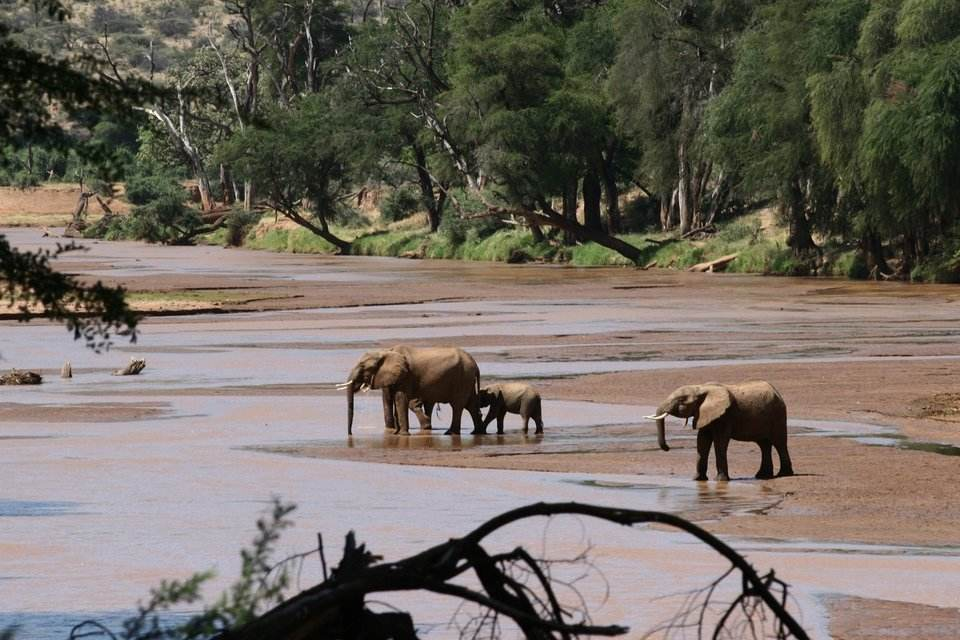elephant: (649, 380, 794, 480), (341, 347, 484, 446), (466, 378, 546, 441)
